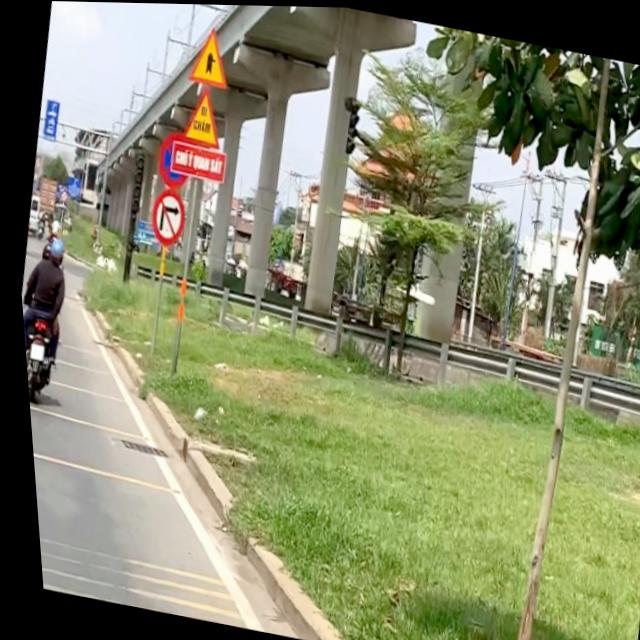Cam re phai: (141, 184, 189, 250)
Di cham: (175, 83, 228, 149)
Giao nhau voi duong khong uu tien ben phai: (182, 19, 237, 88)
